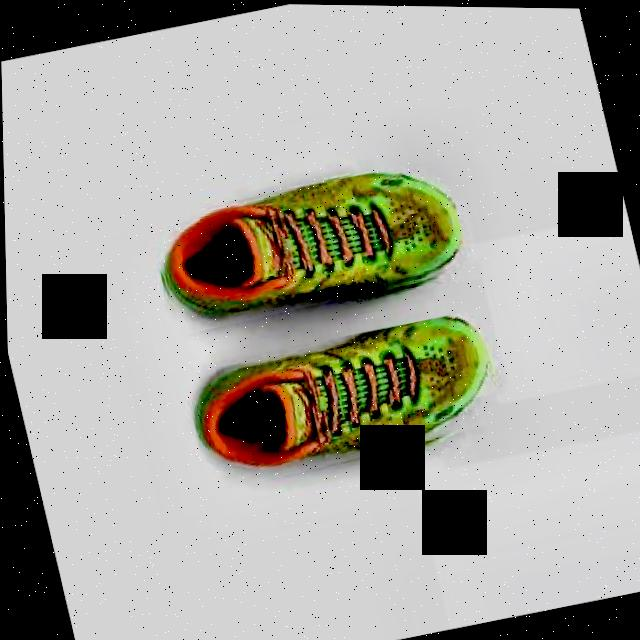shoe: (177, 304, 507, 497), (144, 153, 472, 339)
